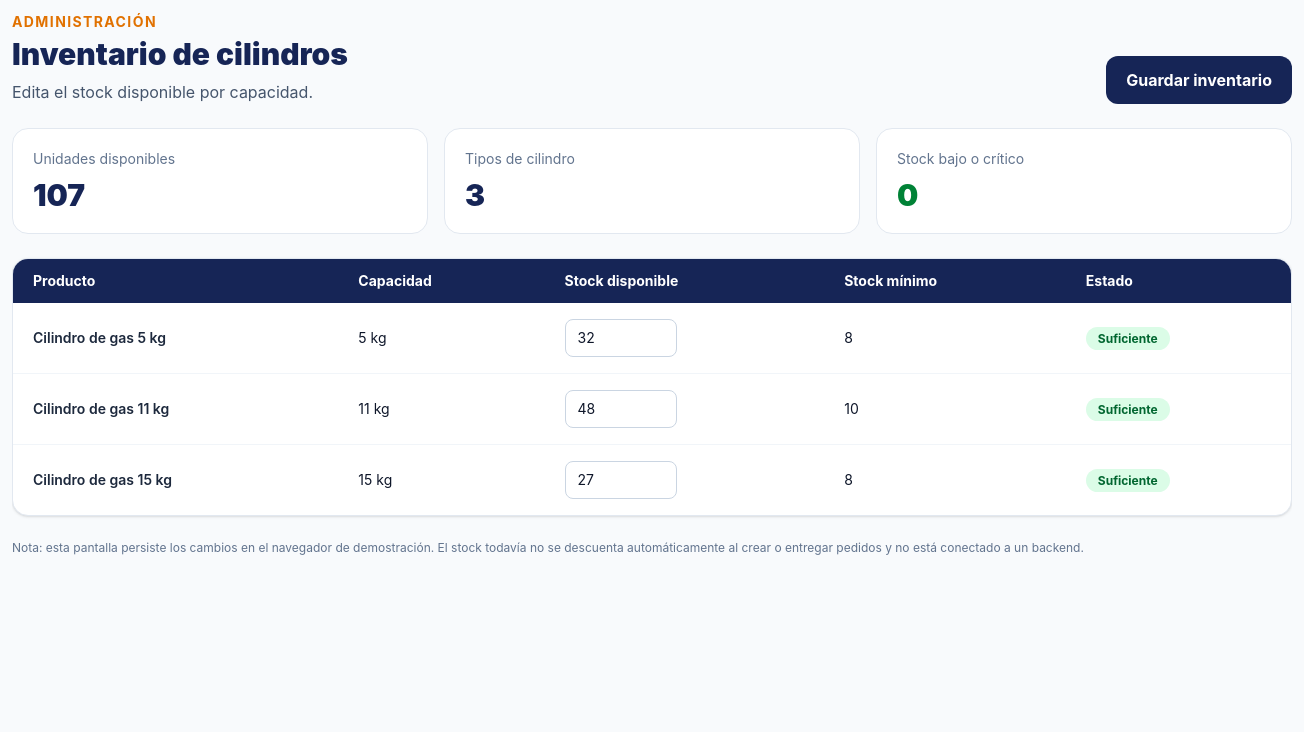
Test case: Inventario › muestra error cuando el stock es inválido
This screenshot has width=1304, height=732.
Step 1. Replace the text in the number field named "stock de cilindro de gas 5 kg" in the row of "Cilindro de gas 5 kg" with "-1" → [621, 338], box [565,319,677,357]
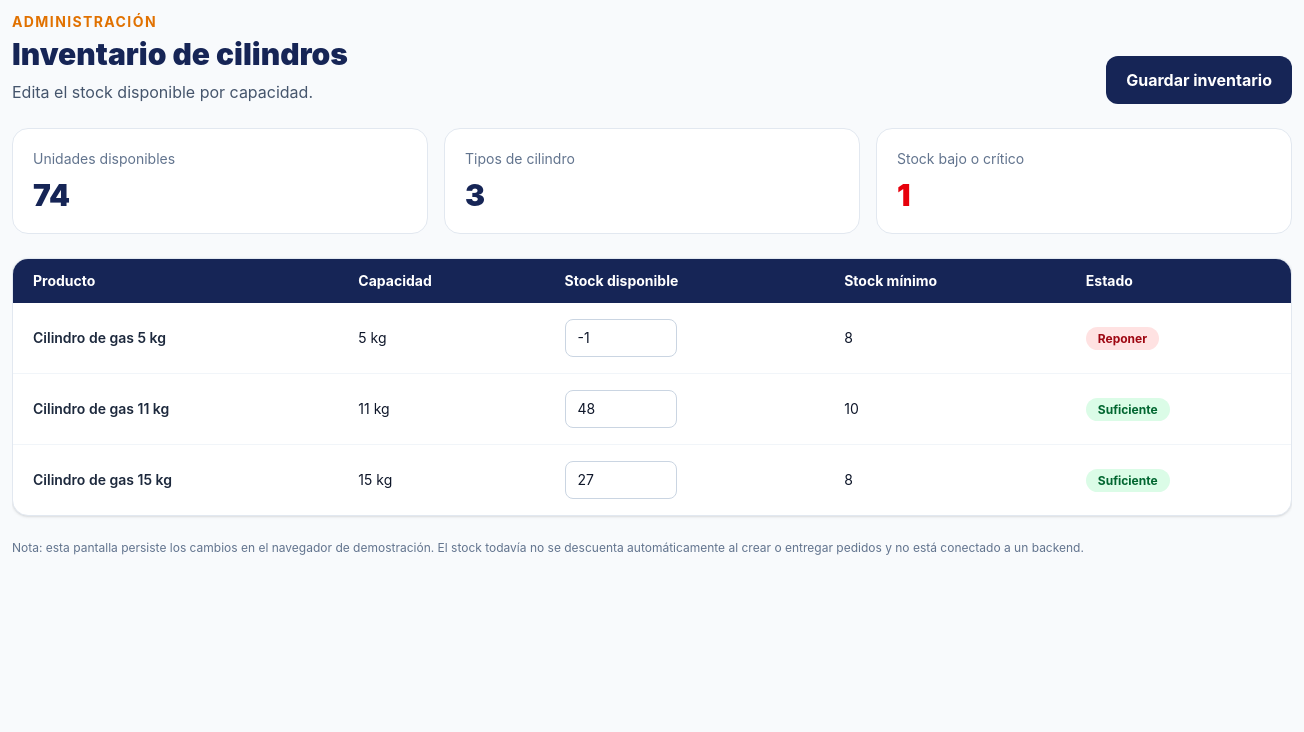
Step 2. Click the button "Guardar inventario" → [1199, 80], box [1106,56,1292,104]
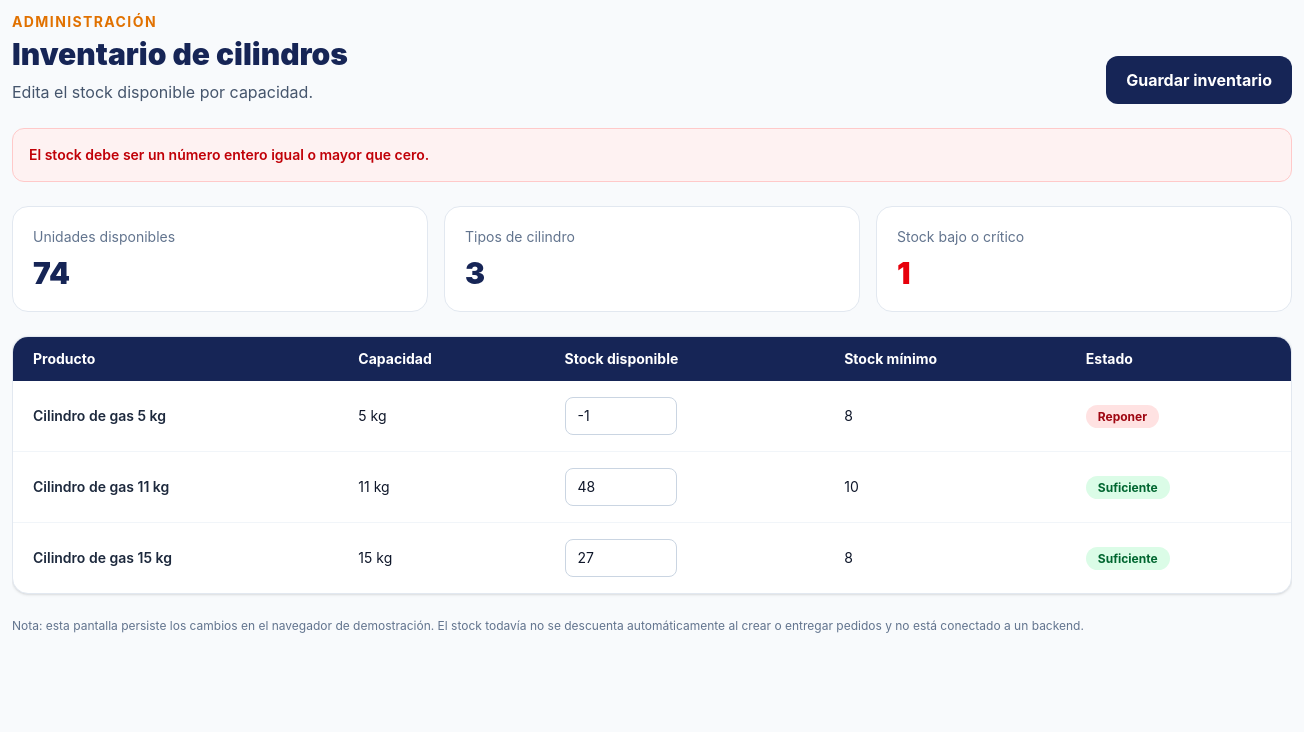
Now the message shows "stock debe ser un número entero", box [29,146,429,163]
